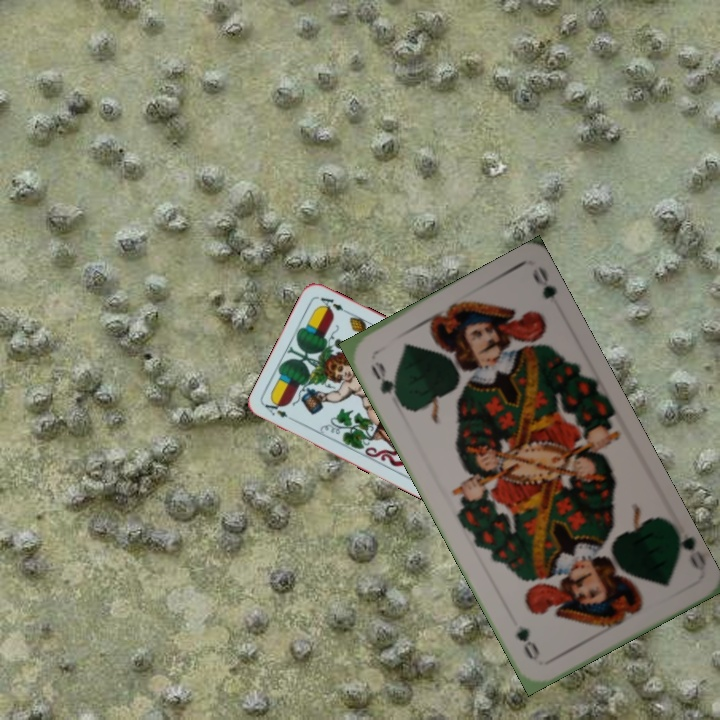EA: (261, 398, 299, 425)
GO: (668, 521, 704, 573), (366, 357, 404, 406)
